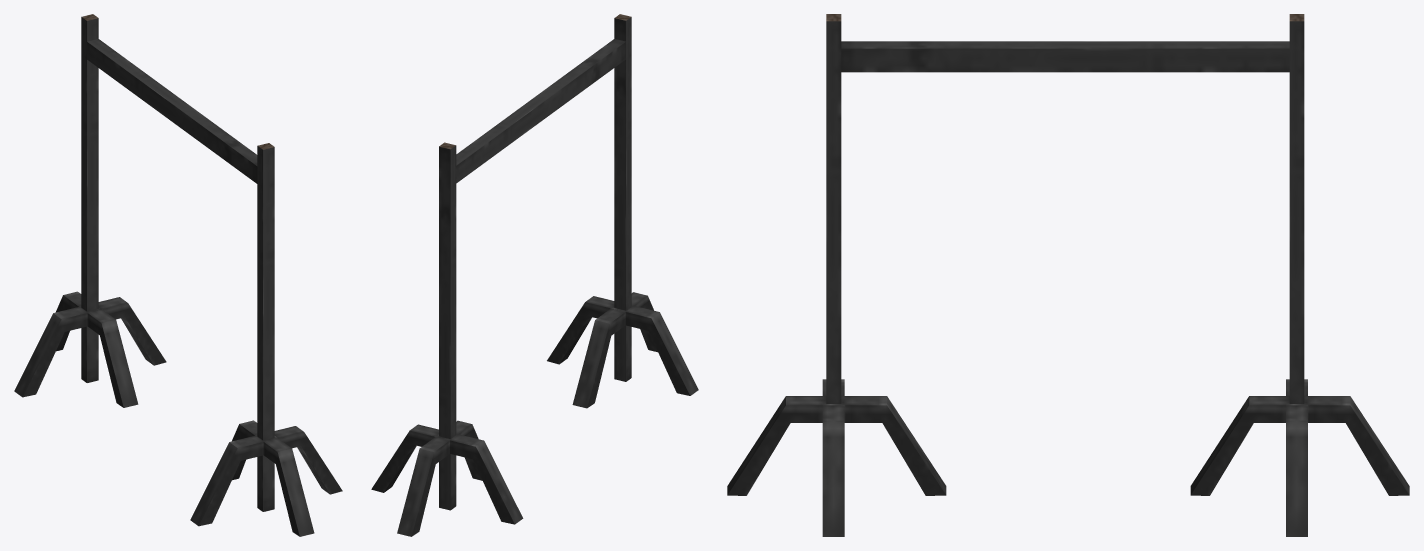
File: hanger.fbx
3 renders of one model, left to right at view 1: azimuth 30°, elevation 25°; view 2: azimuth 150°, elevation 25°; view 3: azimuth 270°, elevation 25°, orthographic. The views are drawn at different scales.
Parts seen in each view (by area): view 1: pCylinder21, pCylinder18, pCube59; view 2: pCylinder18, pCylinder21, pCube59; view 3: pCylinder21, pCylinder18, pCube59.
Part boxes in pixels (bbox=[...]): pCylinder21: bbox=[190, 143, 342, 536]; pCylinder18: bbox=[14, 14, 166, 407]; pCube59: bbox=[86, 39, 257, 183]; pCylinder18: bbox=[371, 142, 523, 536]; pCylinder21: bbox=[547, 14, 698, 408]; pCube59: bbox=[455, 39, 625, 183]; pCylinder21: bbox=[727, 14, 946, 536]; pCylinder18: bbox=[1190, 14, 1409, 536]; pCube59: bbox=[841, 41, 1289, 72].
Bounding box in the file's own units: 261 × 626 × 812.
